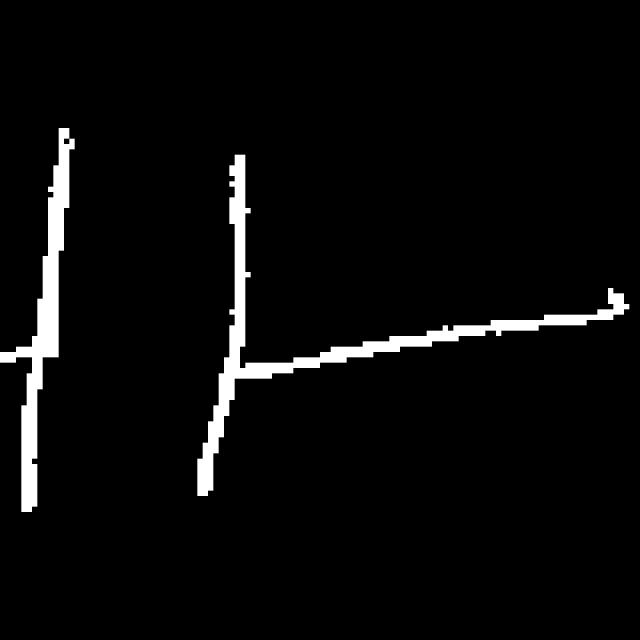capacitor: (7, 114, 249, 523)
